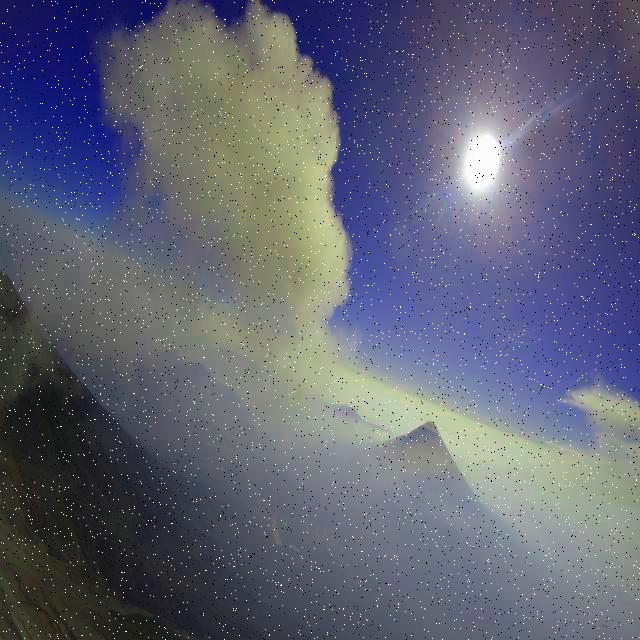Plume: (85, 0, 361, 436)
